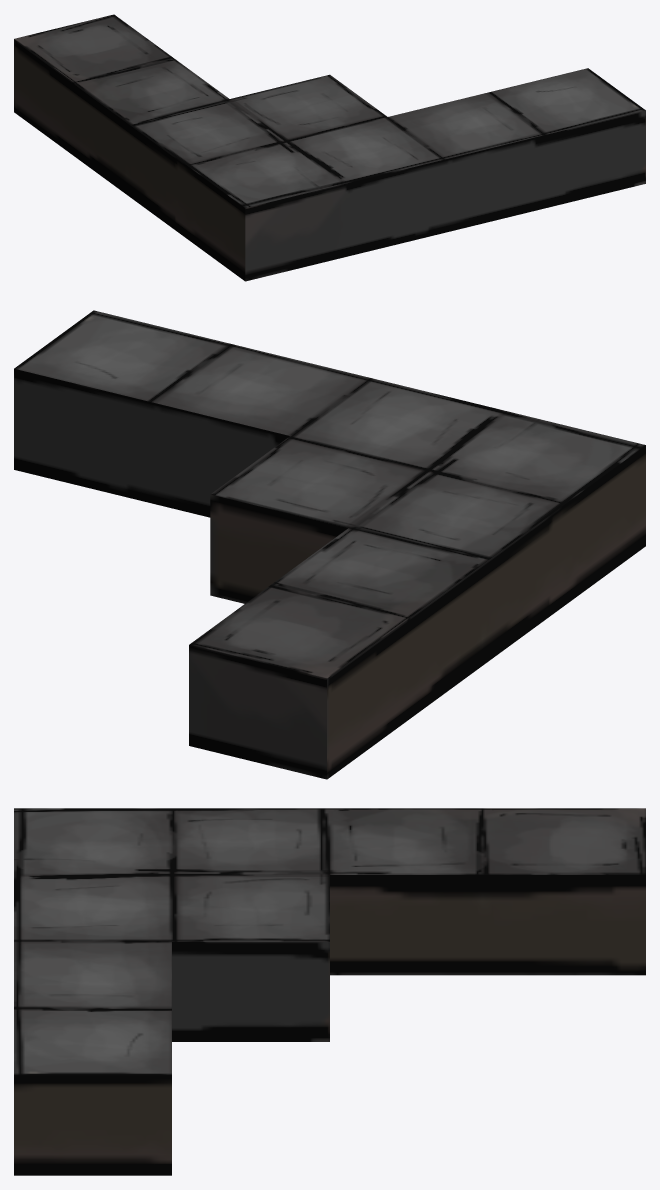
The model's file is floor_tile_broken1.fbx.
The picture shows the model from 3 angles, top to bottom: view 1: azimuth 30°, elevation 25°; view 2: azimuth 150°, elevation 25°; view 3: azimuth 270°, elevation 25°; orthographic projection. The views are drawn at different scales.
Parts seen in each view (by area): view 1: floor_tile_broken1; view 2: floor_tile_broken1; view 3: floor_tile_broken1.
Boxes of the visible parts, x1,y1,x2,y2 form: floor_tile_broken1: (14,14,645,281); floor_tile_broken1: (14,310,645,779); floor_tile_broken1: (14,808,645,1175).
Size of the model in its own units: 10 by 1.75 by 10.
